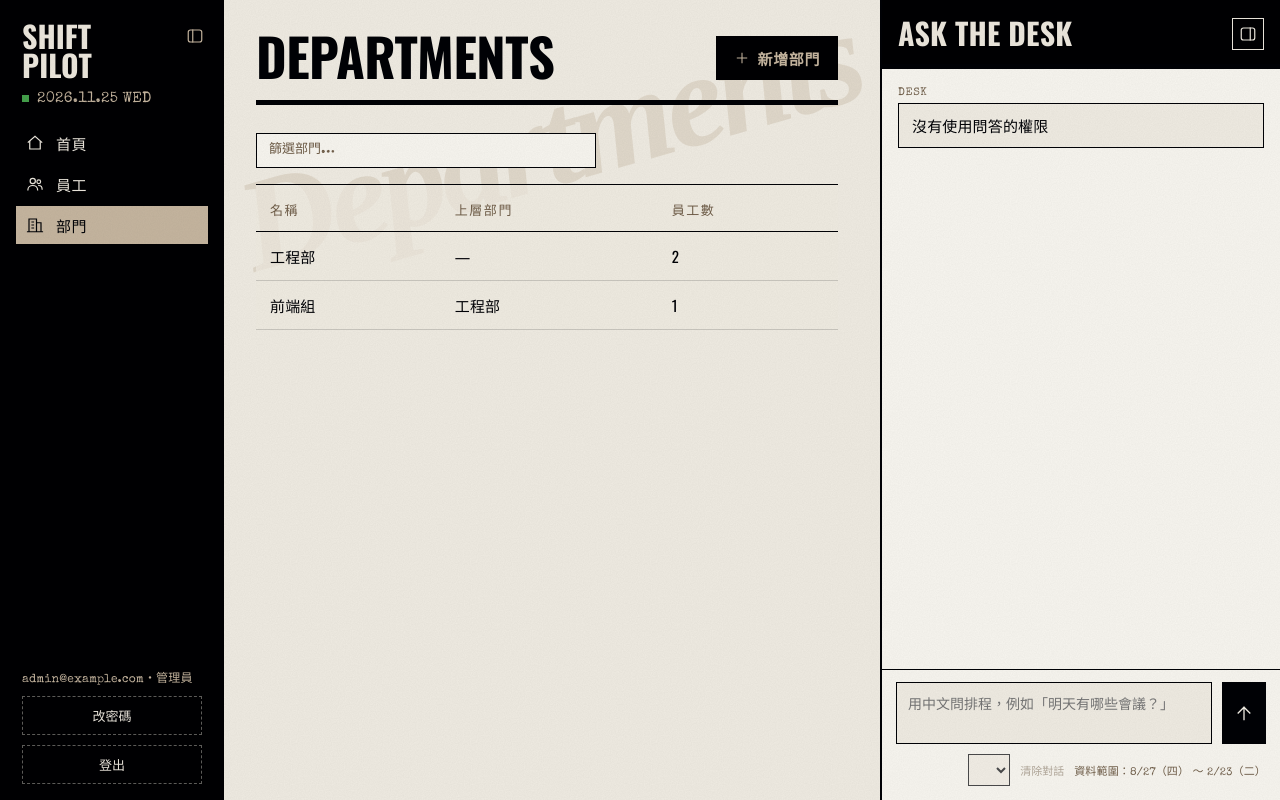
it: testCycleErrorShown
Step 1. Click the 1st text "工程部" → (348, 256), box [256,232,441,281]
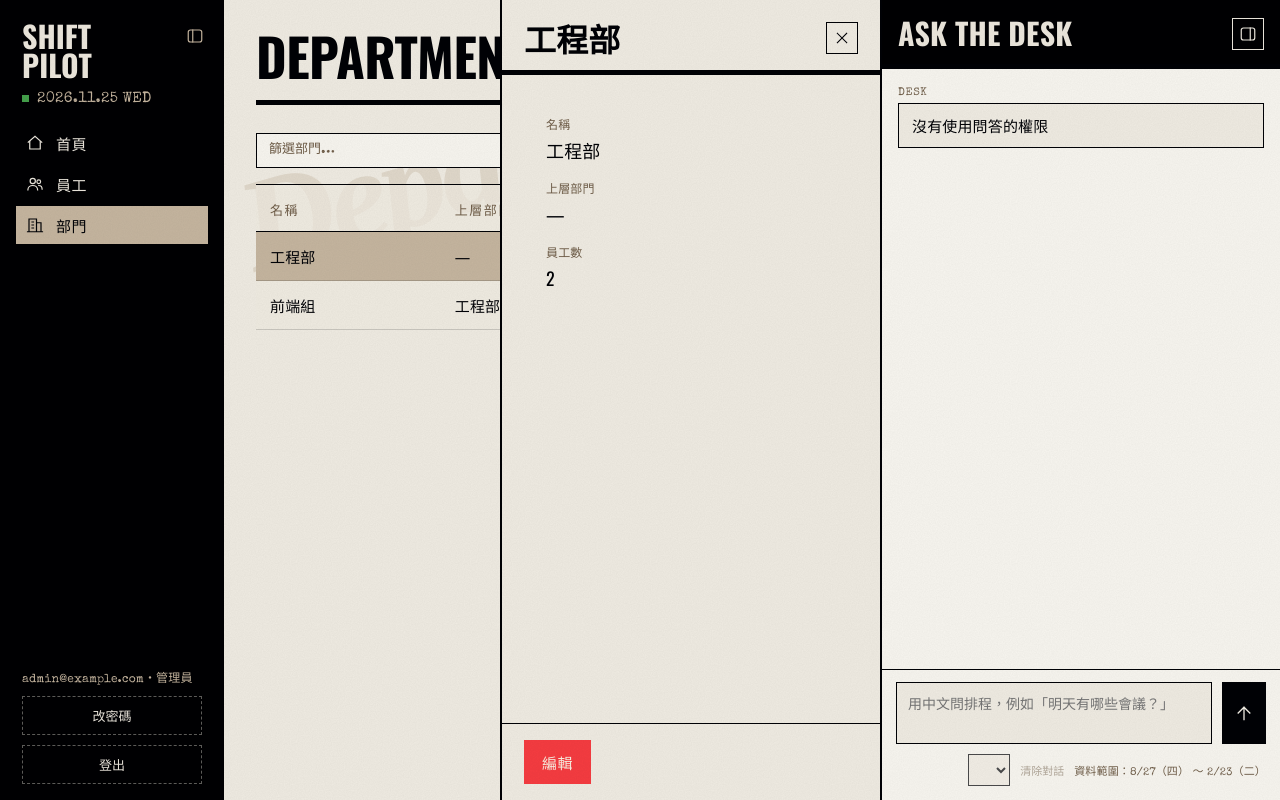
Step 2. Click the button "編輯" → (558, 762), box [524,740,591,784]
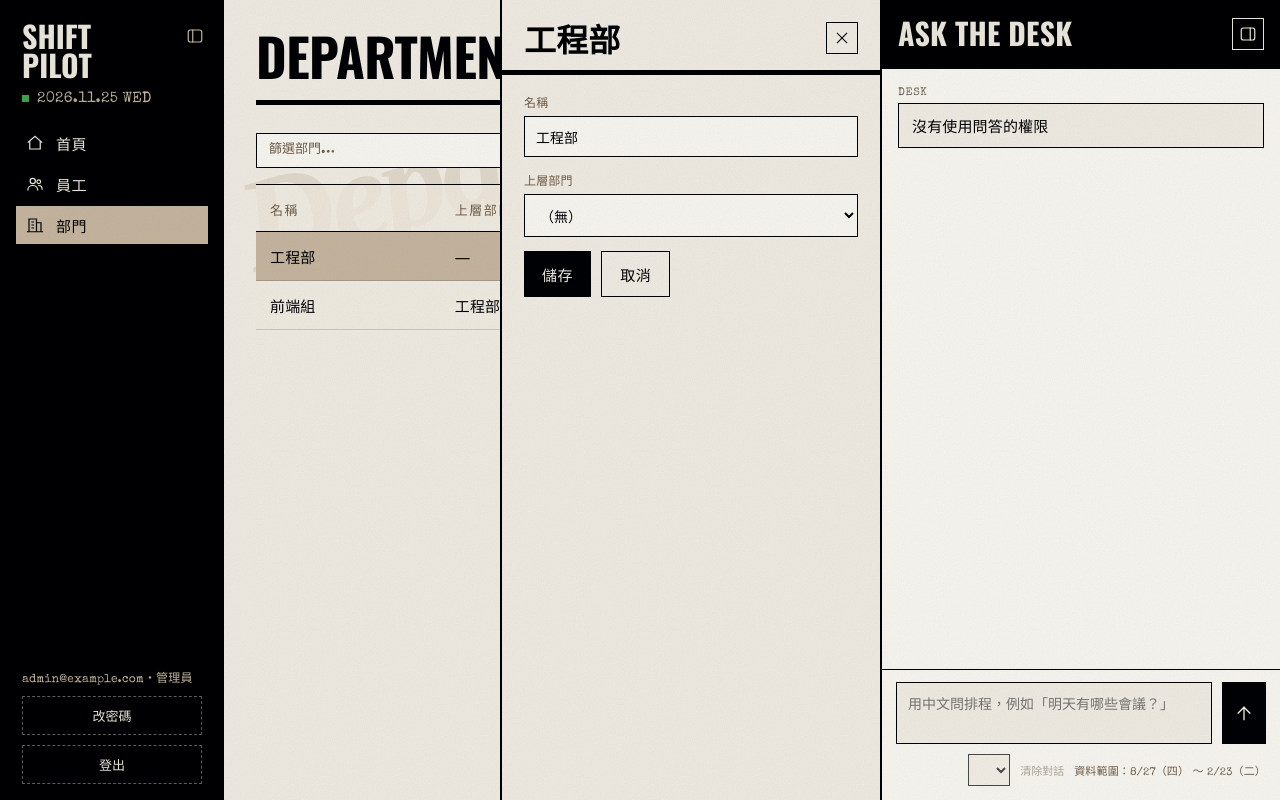
Step 3. Select "前端組" in the dropdown labelled "上層部門" → (691, 216), box [524,194,858,237]
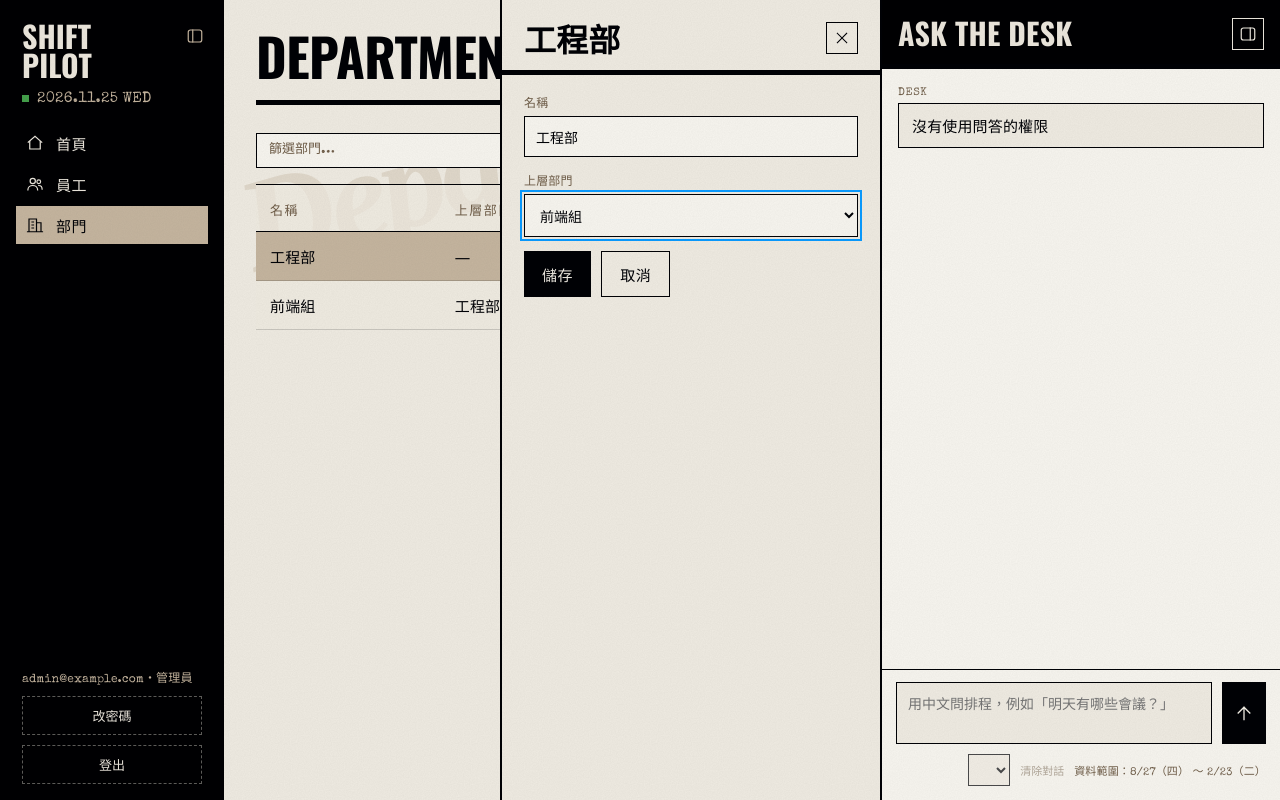
Step 4. Click the button "儲存" → (558, 274), box [524,251,591,297]
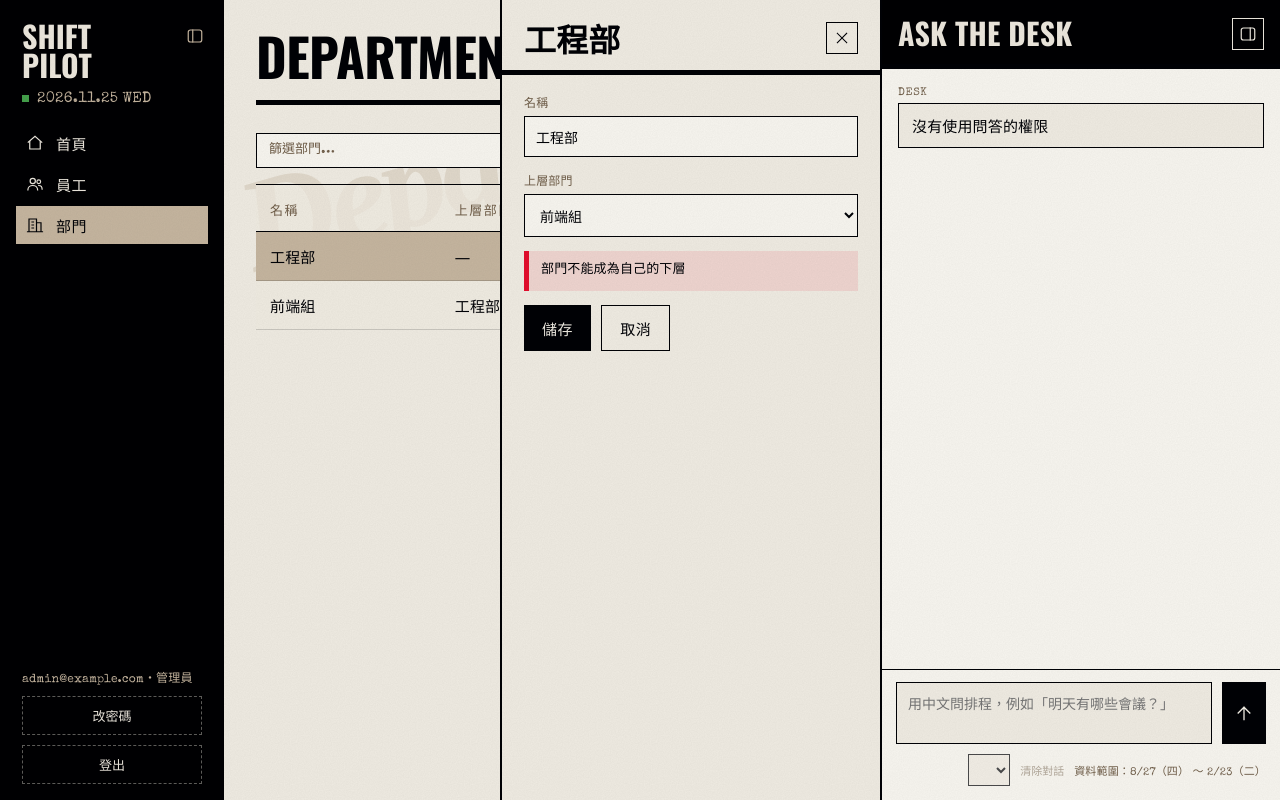
Expected: the text "部門不能成為自己的下層" is shown, [524,251,858,290]
